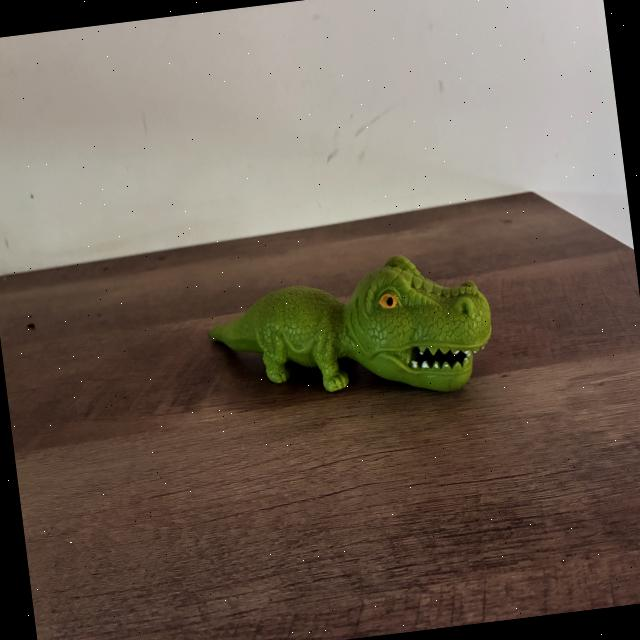dinosaur: (198, 254, 491, 416)
